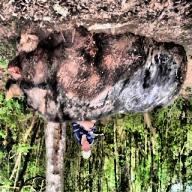boar: (4, 26, 188, 125)
